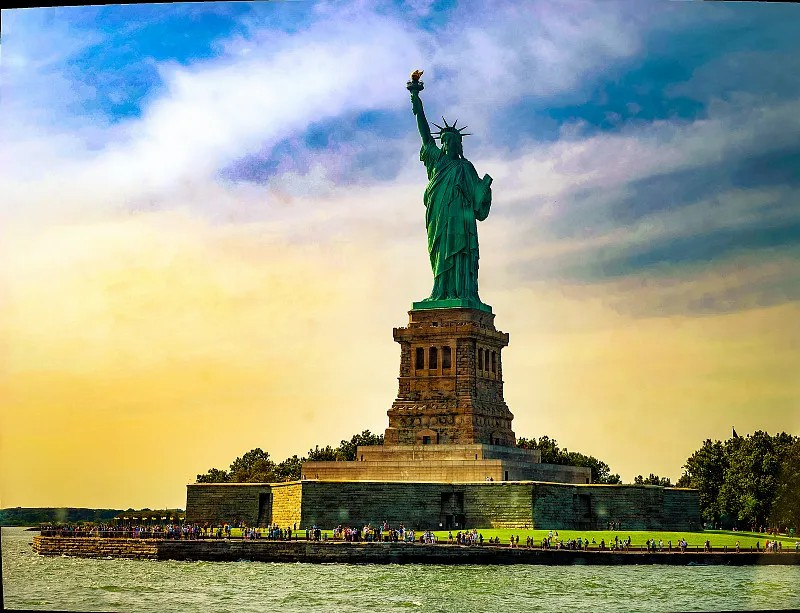SL: (383, 70, 516, 447)
